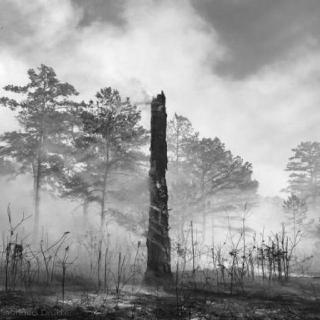Fire: (143, 87, 174, 105)
